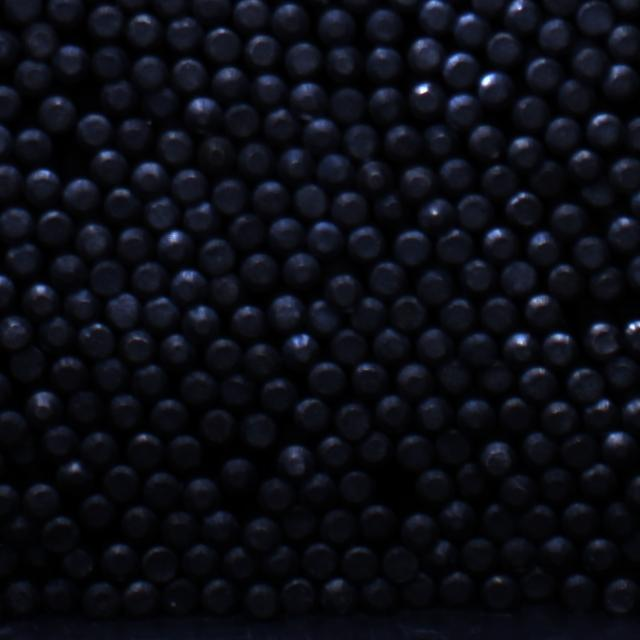tool: (98, 540, 139, 580), (481, 224, 522, 264), (220, 457, 260, 498), (476, 69, 516, 110), (266, 292, 306, 333), (442, 90, 482, 130), (38, 92, 78, 132), (272, 1, 312, 41), (584, 110, 624, 150), (22, 282, 62, 322), (82, 580, 122, 620), (456, 397, 496, 437), (357, 502, 397, 542), (82, 430, 122, 470), (126, 430, 166, 470), (145, 470, 185, 510), (240, 252, 280, 292), (355, 430, 395, 470), (396, 362, 436, 402), (316, 6, 356, 46), (288, 81, 328, 121), (76, 220, 116, 260), (25, 387, 65, 427), (198, 407, 238, 447), (184, 93, 224, 133), (438, 499, 478, 539), (582, 320, 622, 360), (130, 158, 170, 198), (408, 79, 446, 121), (522, 292, 564, 330), (323, 270, 365, 308), (54, 456, 96, 494), (296, 472, 336, 511), (374, 392, 413, 432), (307, 220, 346, 260), (318, 577, 358, 616), (358, 577, 398, 616), (580, 534, 619, 574), (416, 327, 456, 366), (183, 306, 223, 345), (182, 474, 221, 514), (238, 140, 277, 180), (120, 505, 160, 544), (561, 573, 600, 613), (116, 116, 156, 155), (538, 534, 579, 572), (79, 492, 118, 531), (160, 332, 199, 371), (1, 578, 40, 617), (40, 514, 80, 552), (394, 226, 434, 264), (24, 166, 62, 206), (140, 544, 180, 582), (51, 354, 91, 392), (254, 179, 294, 217), (102, 462, 142, 500), (518, 364, 558, 402), (160, 509, 200, 547), (523, 54, 563, 92), (200, 578, 240, 616), (602, 64, 640, 104), (348, 295, 388, 333), (62, 177, 102, 215), (546, 262, 586, 300), (340, 544, 380, 582), (156, 127, 196, 165), (14, 57, 54, 95), (144, 294, 182, 334), (278, 576, 318, 614), (52, 44, 90, 84), (178, 369, 218, 407), (504, 189, 544, 227), (210, 177, 250, 215), (346, 224, 386, 262), (314, 436, 354, 474), (396, 432, 436, 470), (350, 360, 390, 398), (4, 242, 44, 280), (518, 502, 558, 540), (281, 332, 321, 370), (416, 265, 454, 305), (578, 462, 618, 500), (36, 316, 76, 354), (480, 573, 520, 611), (40, 576, 80, 614), (416, 468, 456, 506), (131, 363, 171, 401), (302, 117, 342, 155), (499, 396, 539, 434), (400, 511, 440, 549), (476, 439, 516, 477), (372, 326, 412, 364), (169, 268, 209, 306), (197, 136, 237, 174), (292, 396, 332, 434), (548, 200, 588, 238), (316, 152, 356, 190), (306, 297, 344, 337), (49, 254, 89, 292), (568, 42, 606, 82), (200, 510, 240, 548), (355, 158, 395, 196), (374, 188, 414, 226), (308, 360, 347, 398), (369, 260, 408, 298), (282, 251, 321, 289), (334, 400, 372, 439), (560, 502, 599, 540), (544, 115, 582, 154), (117, 225, 156, 263), (468, 124, 507, 162), (459, 536, 497, 575), (16, 125, 55, 163), (261, 375, 299, 414), (368, 85, 406, 124), (383, 122, 422, 160), (452, 8, 491, 46), (284, 40, 323, 78), (406, 36, 444, 75), (503, 328, 542, 366), (197, 236, 236, 274), (210, 65, 248, 104), (184, 199, 223, 237), (414, 394, 454, 431), (22, 480, 62, 517), (540, 399, 580, 436), (275, 442, 315, 479), (332, 190, 372, 227), (556, 78, 596, 115), (41, 423, 81, 460), (437, 156, 477, 193), (101, 79, 141, 116), (66, 391, 106, 428), (602, 428, 640, 466), (36, 209, 74, 247), (436, 428, 474, 466), (330, 86, 368, 124), (122, 580, 160, 618), (456, 192, 494, 230), (11, 344, 49, 382), (78, 321, 116, 359), (566, 366, 604, 404), (507, 133, 545, 171), (524, 429, 562, 467), (162, 578, 200, 616), (542, 329, 580, 367), (344, 122, 382, 160), (602, 576, 640, 614), (223, 544, 261, 582), (480, 294, 518, 332), (268, 216, 306, 254), (528, 158, 566, 196), (126, 10, 164, 48), (438, 297, 476, 335), (278, 147, 316, 185), (246, 341, 284, 379), (106, 186, 144, 224), (250, 72, 288, 110), (228, 211, 266, 249), (526, 228, 564, 266), (326, 43, 364, 81), (264, 108, 302, 146), (158, 228, 196, 266), (457, 463, 495, 501), (239, 412, 278, 449), (76, 111, 115, 148), (441, 49, 478, 88), (439, 569, 478, 606), (390, 294, 430, 330), (318, 509, 358, 545), (436, 228, 476, 264), (460, 259, 500, 295), (182, 544, 222, 580), (242, 514, 282, 550), (364, 6, 404, 42), (150, 398, 190, 434), (64, 286, 104, 322), (476, 359, 516, 395), (418, 536, 458, 572), (302, 541, 339, 579), (90, 260, 128, 297), (105, 290, 142, 328), (502, 261, 540, 298), (382, 544, 419, 582), (170, 165, 208, 202), (205, 336, 242, 374), (560, 433, 598, 470), (88, 1, 126, 38), (481, 163, 519, 200), (167, 434, 204, 472), (422, 121, 460, 158), (106, 393, 144, 430), (228, 303, 266, 340), (588, 264, 626, 301), (417, 196, 455, 233), (498, 537, 536, 574), (400, 162, 438, 199), (258, 476, 297, 512), (364, 46, 403, 82), (140, 84, 181, 118), (331, 328, 369, 364), (170, 56, 208, 92), (338, 470, 376, 506), (487, 30, 525, 66), (91, 147, 129, 183), (204, 24, 242, 60), (130, 54, 168, 90), (572, 234, 610, 270), (21, 22, 59, 58), (480, 503, 516, 541), (165, 16, 203, 52), (262, 544, 300, 580), (244, 34, 282, 70), (1, 516, 39, 552), (565, 148, 603, 184), (91, 44, 129, 80), (94, 356, 132, 392), (436, 358, 474, 394), (130, 261, 168, 297), (512, 94, 550, 130), (582, 397, 620, 433), (518, 564, 556, 600), (458, 332, 498, 366), (602, 501, 638, 538), (292, 183, 328, 220), (537, 17, 573, 54), (401, 572, 438, 608), (540, 468, 578, 503), (120, 329, 158, 364), (221, 372, 259, 407), (1, 204, 36, 242), (499, 472, 538, 506), (607, 22, 640, 62), (576, 1, 616, 34), (603, 353, 639, 389), (242, 582, 278, 618), (282, 505, 318, 541), (224, 101, 260, 137), (416, 0, 454, 34), (58, 545, 96, 579), (607, 215, 640, 254), (504, 0, 541, 34), (0, 314, 34, 350), (146, 196, 182, 230), (608, 154, 640, 192), (233, 0, 271, 31), (0, 408, 29, 446), (210, 273, 242, 307), (47, 1, 87, 28), (581, 180, 615, 210), (0, 162, 24, 203), (194, 0, 234, 24), (2, 0, 44, 22), (622, 313, 640, 359), (620, 527, 640, 567), (0, 84, 22, 120), (0, 28, 20, 66), (622, 393, 640, 435), (1, 481, 20, 520), (0, 272, 18, 312), (624, 110, 640, 152), (0, 540, 19, 574), (153, 0, 193, 16), (471, 0, 508, 16), (626, 250, 640, 292), (0, 120, 14, 161), (626, 468, 640, 508), (540, 0, 580, 14), (610, 0, 640, 16), (386, 0, 426, 12), (338, 1, 382, 10), (630, 183, 640, 220), (112, 1, 151, 10)
void: (372, 466, 416, 508)
